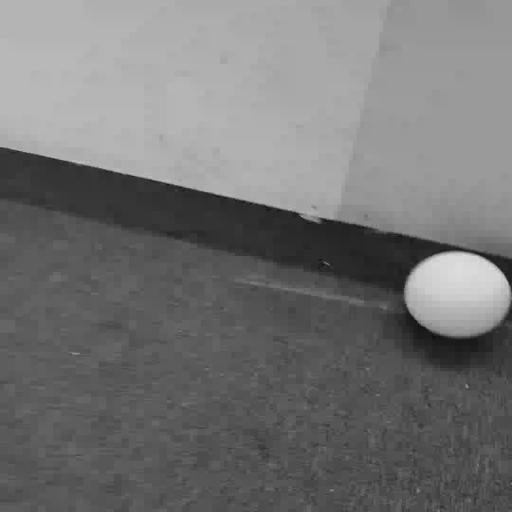fuel: (404, 251, 511, 338)
